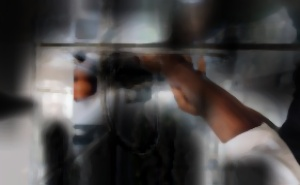washing hand: (88, 54, 244, 167)
